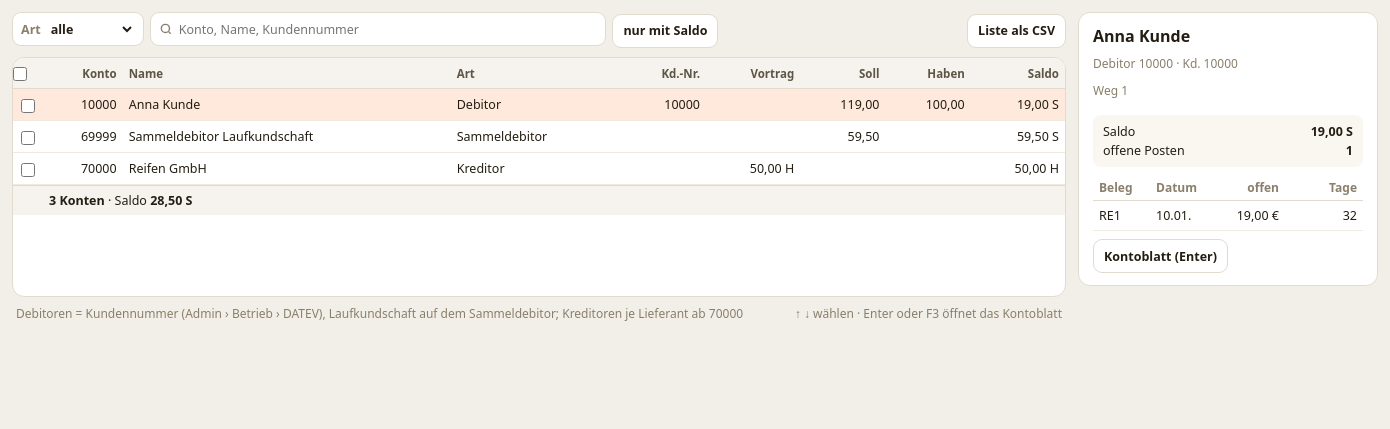
Personenkonten am Rechner › Enter öffnet das Kontoblatt mit offenen Posten; Zurück
The width and height of the screenshot is (1390, 429).
Step 1. Press Home in the element named "Personenkonten", box [12,57,1066,297]
Step 2. Press Enter in the element named "Personenkonten", box [12,57,1066,297]
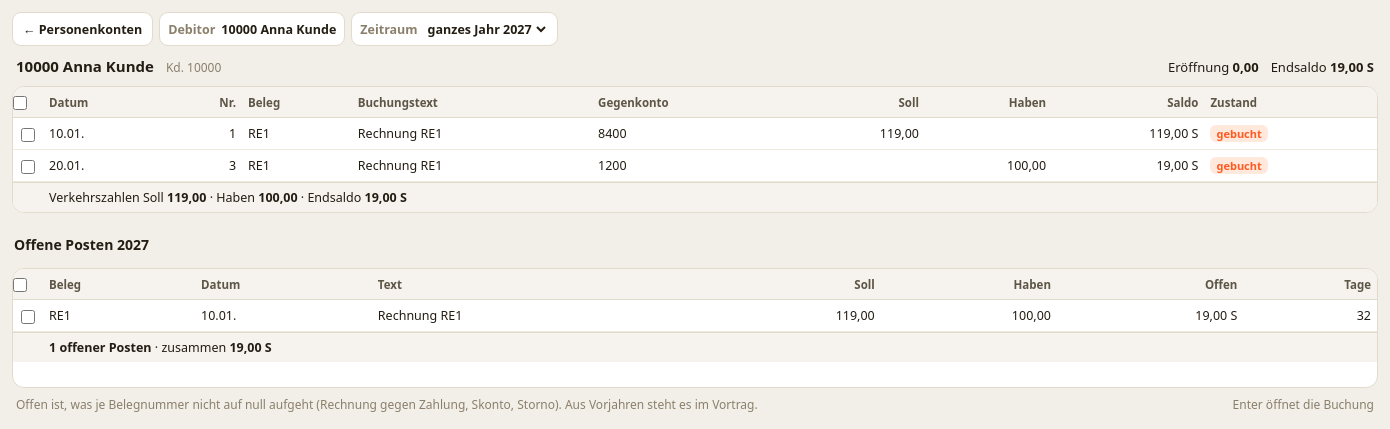
Step 3. Press Home in the element named "Offene Posten 10000", box [12,268,1378,388]
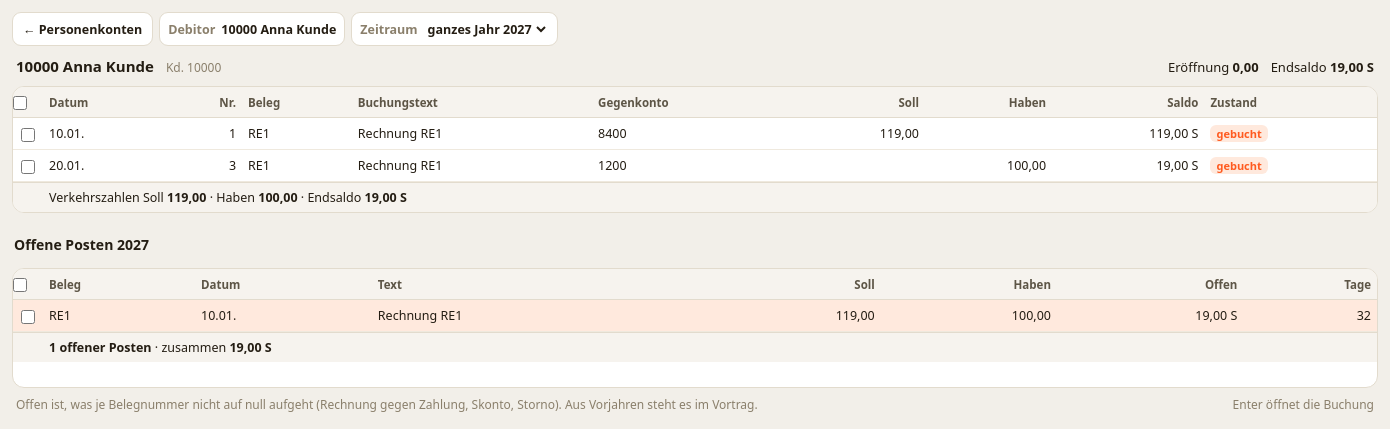
Step 4. Press Enter in the element named "Offene Posten 10000", box [12,268,1378,388]
Step 5. Click the button "← Personenkonten" → (83, 29), box [12,12,153,46]
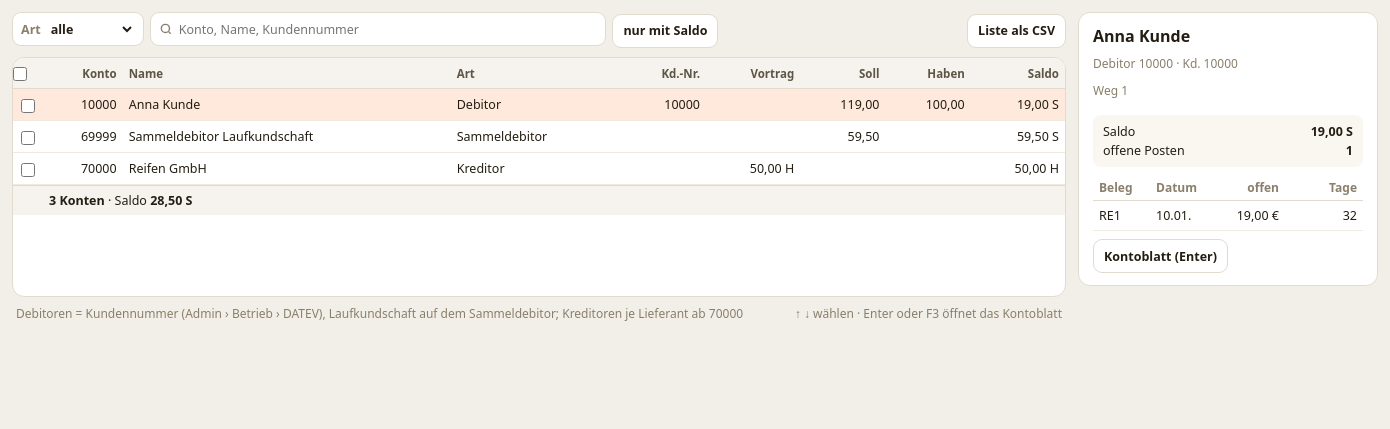
expect the element named "Personenkonten" is shown: met, box [12,57,1066,297]
